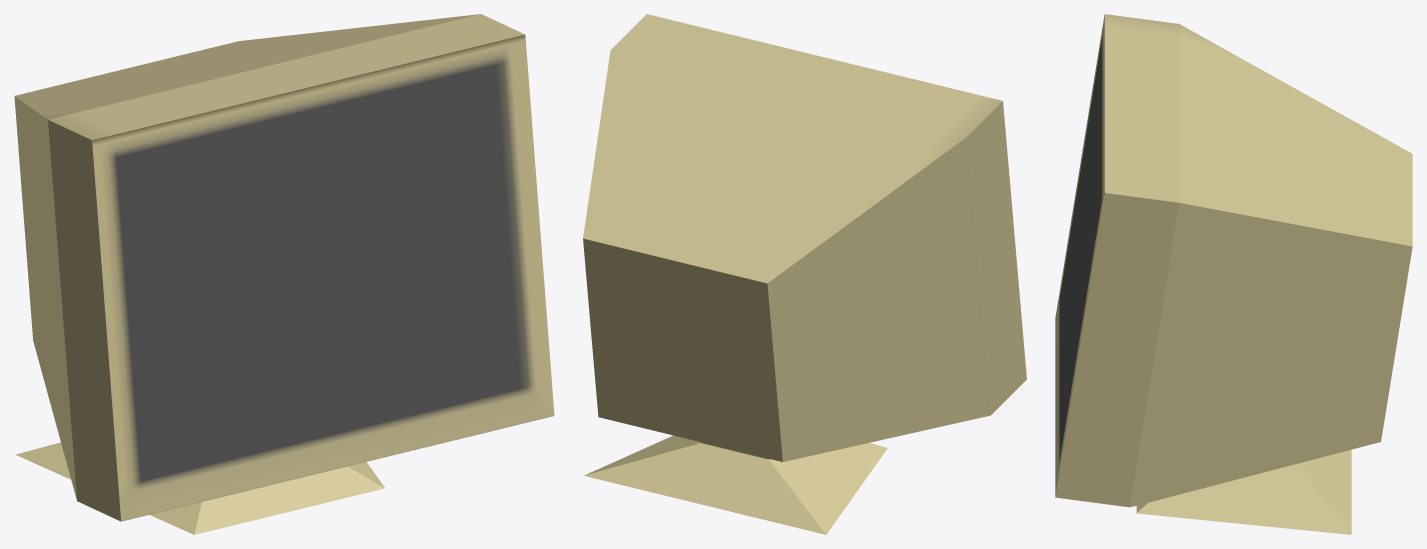
Rendered from Old_Monitor.fbx.
3 renders of one model, left to right at view 1: azimuth 30°, elevation 25°; view 2: azimuth 150°, elevation 25°; view 3: azimuth 270°, elevation 25°, orthographic. The views are drawn at different scales.
Parts seen in each view (by area): view 1: Maya_File_Assets:TexturedAssetsCurrent:ComputerMonitorOld; view 2: Maya_File_Assets:TexturedAssetsCurrent:ComputerMonitorOld; view 3: Maya_File_Assets:TexturedAssetsCurrent:ComputerMonitorOld.
Part boxes in pixels (x1,y1,x2,y2): Maya_File_Assets:TexturedAssetsCurrent:ComputerMonitorOld: (14,14,554,534); Maya_File_Assets:TexturedAssetsCurrent:ComputerMonitorOld: (583,14,1026,534); Maya_File_Assets:TexturedAssetsCurrent:ComputerMonitorOld: (1055,14,1412,534).
Bounding box in the file's own units: 0.523 × 0.5052 × 0.4415.
